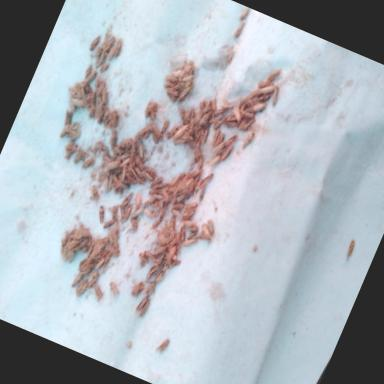pbw: (56, 118, 78, 144), (194, 170, 214, 195), (132, 122, 152, 146), (144, 122, 164, 144), (94, 85, 113, 108), (174, 83, 192, 107), (68, 268, 86, 292), (148, 176, 167, 198), (210, 111, 228, 134), (196, 221, 216, 241), (86, 280, 104, 302), (152, 335, 170, 357), (132, 292, 148, 316), (264, 65, 282, 85), (239, 129, 255, 151), (180, 234, 199, 252), (104, 156, 122, 175), (82, 69, 99, 89), (209, 139, 226, 159), (256, 80, 274, 98), (198, 107, 214, 127), (164, 122, 180, 142), (179, 174, 195, 194), (156, 198, 170, 220), (163, 244, 177, 266), (178, 69, 196, 86), (250, 98, 267, 116), (128, 203, 144, 222), (132, 140, 148, 159), (228, 106, 244, 124), (148, 174, 164, 192), (222, 132, 238, 150), (152, 241, 168, 259), (106, 281, 124, 297), (102, 172, 116, 192), (172, 123, 186, 143), (168, 170, 182, 190), (98, 174, 112, 194), (94, 205, 108, 224), (174, 224, 188, 243), (103, 35, 116, 55), (86, 184, 101, 201), (117, 154, 131, 172), (130, 191, 144, 209), (206, 153, 220, 171), (152, 269, 166, 287), (121, 189, 134, 208), (344, 238, 356, 258), (150, 213, 164, 230), (120, 204, 133, 222), (88, 34, 100, 53), (68, 96, 84, 110), (80, 156, 94, 172), (142, 194, 156, 210), (136, 251, 152, 265), (198, 128, 210, 146), (158, 120, 170, 138), (164, 85, 180, 98), (166, 258, 180, 272), (102, 217, 115, 232), (93, 256, 105, 272), (182, 218, 198, 230), (117, 150, 130, 164), (98, 61, 110, 76), (168, 206, 183, 218), (116, 179, 130, 191), (220, 101, 234, 112), (142, 170, 154, 182), (166, 217, 176, 231)
